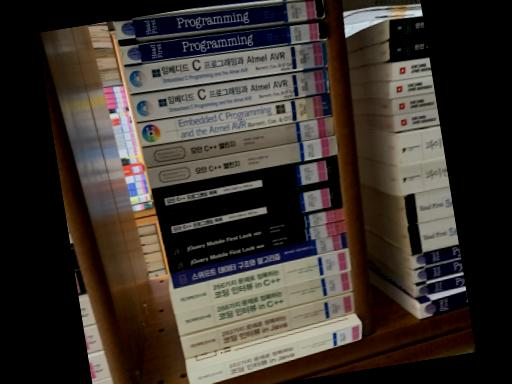book-spine: (168, 246, 352, 313), (179, 289, 355, 358), (158, 180, 342, 243), (151, 154, 339, 215), (174, 269, 353, 333), (187, 321, 361, 384), (129, 67, 328, 121), (135, 92, 332, 145), (123, 41, 327, 91), (146, 134, 337, 187), (169, 232, 347, 288), (142, 114, 333, 166), (167, 219, 345, 271), (164, 207, 343, 258), (119, 21, 327, 64), (114, 0, 325, 39)
